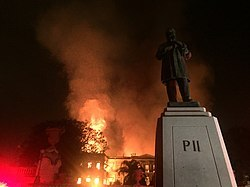fire: (75, 96, 122, 187)
